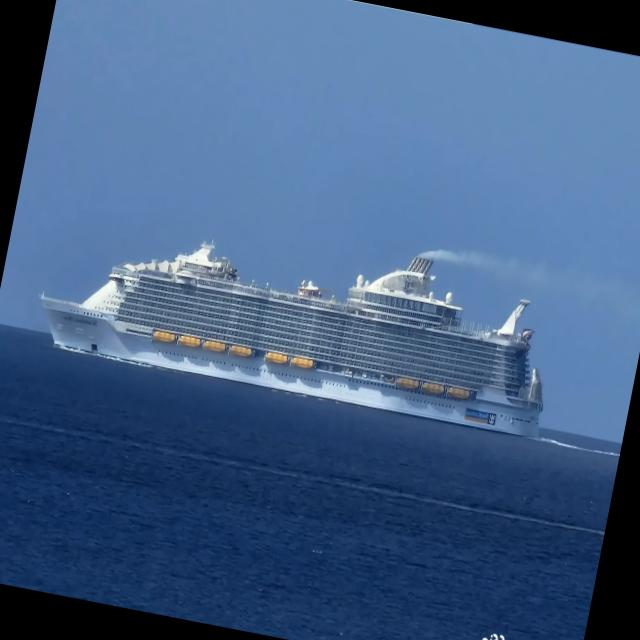Cruise: (41, 242, 543, 437)
